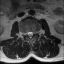CCS_normal: (28, 30, 31, 40)
LFS_stenosis: (33, 30, 36, 36)
LLS_normal: (31, 30, 33, 37)
RFS_normal: (23, 31, 25, 37)
RLS_normal: (26, 30, 28, 37)
